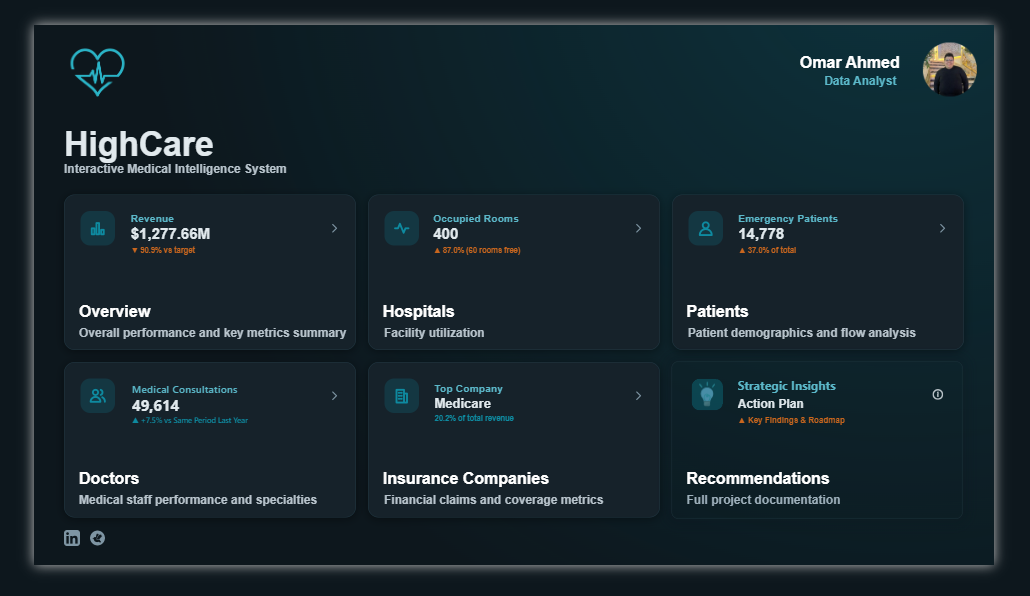

The page's visual inventory and layout, read from the dashboard file:
{"tool":"powerbi","page":{"name":"Main menu","canvas":[1920,1080],"ordinal":0},"visuals":[{"type":"textbox","box":[1305,890,312.5,50],"z":1000},{"type":"textbox","box":[1305,932.5,600,55],"z":2000},{"type":"textbox","box":[1406.7,673.3,223.3,66.7],"z":3000},{"type":"textbox","box":[1406.7,740,161.7,60],"z":4000},{"type":"textbox","box":[1406.7,770,481.7,60],"z":5000},{"type":"image","box":[1315,707.5,62.5,62.5],"z":6000},{"type":"textbox","title":"Company","box":[60,200,520,118],"z":7000},{"type":"textbox","title":"Page name","box":[698,556,218,49],"z":8000},{"type":"textbox","title":"Page name","box":[90,556,200,49],"z":9000},{"type":"textbox","title":"Page description","box":[90,598,554,54],"z":10000},{"type":"textbox","title":"Page description","box":[699,597,345,38],"z":11000},{"type":"textbox","title":"Page name","box":[1306,556,200,49],"z":12000},{"type":"textbox","title":"Page description","box":[1308,598,500,38],"z":13000},{"type":"textbox","title":"Page name","box":[90,891,183,49],"z":14000},{"type":"textbox","title":"Page description","box":[90,932,534,54],"z":15000},{"type":"textbox","title":"Page name","box":[698,891,397,49],"z":16000},{"type":"textbox","title":"Page description","box":[700,932,492,54],"z":17000},{"type":"image","title":"Logo","box":[62,36,130,120],"z":18000},{"type":"actionButton","title":"LinkedIn","box":[60,1010,32,32],"z":19000},{"type":"image","box":[1745.5,36.2,174,108],"z":20000,"group":"g1"},{"type":"actionButton","title":"Website","box":[1888,1010,32,32],"z":20000},{"type":"textbox","box":[1525.5,58.2,206.5,78.1],"z":21000,"group":"g1"},{"type":"textbox","box":[60,270,494,64],"z":21000},{"type":"group","id":"g1","title":"Group 1","box":[1525.5,36.2,394.5,108.6],"z":22000},{"type":"actionButton","title":"Go to Overview","box":[59.7,333,584.5,318.5],"z":23000},{"type":"actionButton","title":"Go to Hospitals","box":[669.6,333,584.5,318.5],"z":24000},{"type":"actionButton","title":"Go to Patients","box":[1274,333,584.5,318.5],"z":25000},{"type":"actionButton","title":"Go to Doctors","box":[60,672.5,585,315],"z":26000},{"type":"actionButton","title":"Go to Insurance Companies","box":[670,672.5,582.5,315],"z":27000},{"type":"htmlContent443BE3AD55E043BF878BED274D3A6855","fields":{"content":["Dax_Measures.HTML_Card_Revenue"]},"box":[163.1,358.1,481,168],"z":28000},{"type":"htmlContent443BE3AD55E043BF878BED274D3A6855","fields":{"content":["Dax_Measures.HTML_Card_Emergency_Patients_Menu"]},"box":[1377.9,358.1,481,168],"z":29000},{"type":"htmlContent443BE3AD55E043BF878BED274D3A6855","fields":{"content":["Dax_Measures.HTML_Card_Doctors"]},"box":[164.7,696.7,481,168],"z":30000},{"type":"htmlContent443BE3AD55E043BF878BED274D3A6855","fields":{"content":["Dax_Measures.HTML_Card_TopInsurance"]},"box":[770.9,696.7,481.4,168],"z":31000},{"type":"htmlContent443BE3AD55E043BF878BED274D3A6855","fields":{"content":["Dax_Measures.HTML_Card_Hospitals"]},"box":[768,357.9,481.4,168.3],"z":32000},{"type":"actionButton","title":"LinkedIn","box":[110,1010,34,32],"z":33000},{"type":"actionButton","box":[1757.5,697.5,100,82.5],"z":34000},{"type":"shape","box":[1315,708.3,63.3,63.3],"z":35000},{"type":"shape","box":[1275,672.5,582.5,315],"z":35500}]}

Visuals, with their boxes in screenshot pixels (x1, y1, x2, y2), scaled from the page's 1920x1080 canvas onto the 1030x596 screenshot:
textbox: left=700, top=491, right=868, bottom=519
textbox: left=700, top=515, right=1022, bottom=545
textbox: left=755, top=372, right=874, bottom=408
textbox: left=755, top=408, right=841, bottom=441
textbox: left=755, top=425, right=1013, bottom=458
image: left=705, top=390, right=739, bottom=425
"Company" textbox: left=32, top=110, right=311, bottom=175
"Page name" textbox: left=374, top=307, right=491, bottom=334
"Page name" textbox: left=48, top=307, right=156, bottom=334
"Page description" textbox: left=48, top=330, right=345, bottom=360
"Page description" textbox: left=375, top=329, right=560, bottom=350
"Page name" textbox: left=701, top=307, right=808, bottom=334
"Page description" textbox: left=702, top=330, right=970, bottom=351
"Page name" textbox: left=48, top=492, right=146, bottom=519
"Page description" textbox: left=48, top=514, right=335, bottom=544
"Page name" textbox: left=374, top=492, right=587, bottom=519
"Page description" textbox: left=376, top=514, right=639, bottom=544
"Logo" image: left=33, top=20, right=103, bottom=86
"LinkedIn" actionButton: left=32, top=557, right=49, bottom=575
image: left=936, top=20, right=1029, bottom=80
"Website" actionButton: left=1013, top=557, right=1029, bottom=575
textbox: left=818, top=32, right=929, bottom=75
textbox: left=32, top=149, right=297, bottom=184
"Group 1" group: left=818, top=20, right=1029, bottom=80
"Go to Overview" actionButton: left=32, top=184, right=346, bottom=360
"Go to Hospitals" actionButton: left=359, top=184, right=673, bottom=360
"Go to Patients" actionButton: left=683, top=184, right=997, bottom=360
"Go to Doctors" actionButton: left=32, top=371, right=346, bottom=545
"Go to Insurance Companies" actionButton: left=359, top=371, right=672, bottom=545
htmlContent443BE3AD55E043BF878BED274D3A6855 - Dax_Measures.HTML_Card_Revenue: left=87, top=198, right=346, bottom=290
htmlContent443BE3AD55E043BF878BED274D3A6855 - Dax_Measures.HTML_Card_Emergency_Patients_Menu: left=739, top=198, right=997, bottom=290
htmlContent443BE3AD55E043BF878BED274D3A6855 - Dax_Measures.HTML_Card_Doctors: left=88, top=384, right=346, bottom=477
htmlContent443BE3AD55E043BF878BED274D3A6855 - Dax_Measures.HTML_Card_TopInsurance: left=414, top=384, right=672, bottom=477
htmlContent443BE3AD55E043BF878BED274D3A6855 - Dax_Measures.HTML_Card_Hospitals: left=412, top=198, right=670, bottom=290
"LinkedIn" actionButton: left=59, top=557, right=77, bottom=575
actionButton: left=943, top=385, right=996, bottom=430
shape: left=705, top=391, right=739, bottom=426
shape: left=684, top=371, right=996, bottom=545
